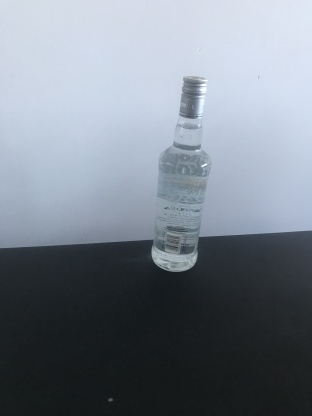nakretka: (177, 73, 209, 121)
